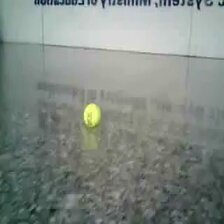tennis: (82, 103, 102, 129)
